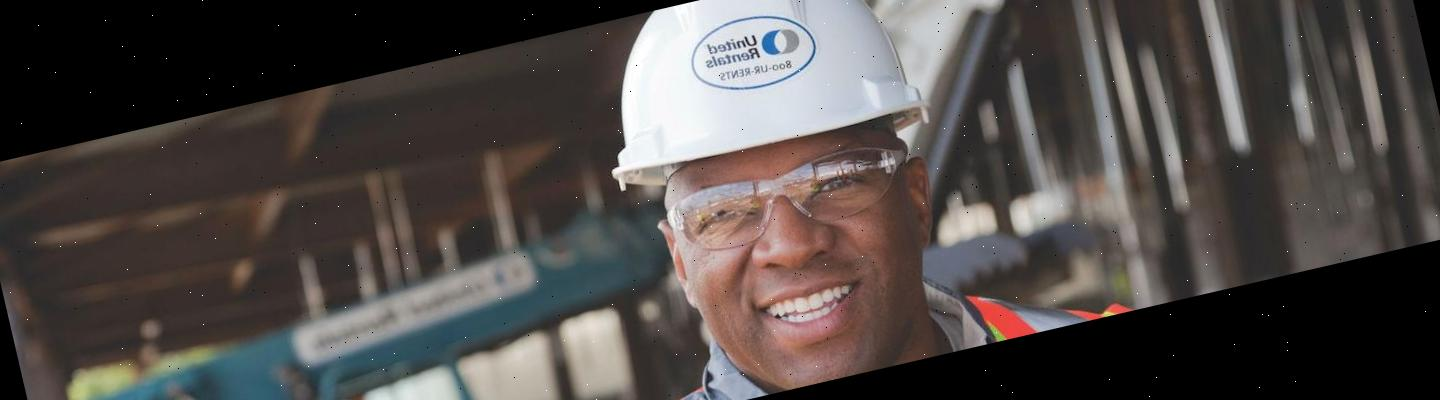helmet: (568, 0, 936, 208)
